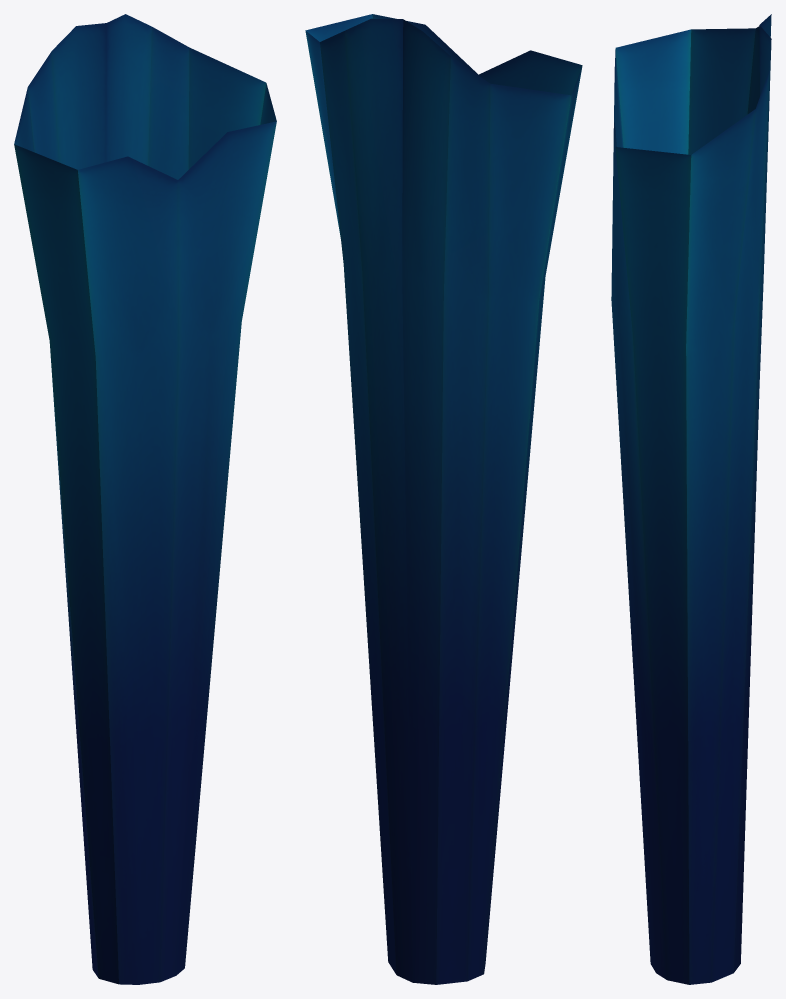
Rendered from M_Medusa_Skirt.fbx.
The picture shows the model from 3 angles, left to right: view 1: azimuth 30°, elevation 25°; view 2: azimuth 150°, elevation 25°; view 3: azimuth 270°, elevation 25°; orthographic projection. The views are drawn at different scales.
Visible parts, largest first — view 1: M_Medusa_Skirt; view 2: M_Medusa_Skirt; view 3: M_Medusa_Skirt.
Part boxes in pixels (bbox=[...]): M_Medusa_Skirt: bbox=[14, 14, 276, 984]; M_Medusa_Skirt: bbox=[305, 14, 582, 984]; M_Medusa_Skirt: bbox=[611, 14, 771, 984].
Bounding box in the file's own units: 4.54 × 15.82 × 2.44.
